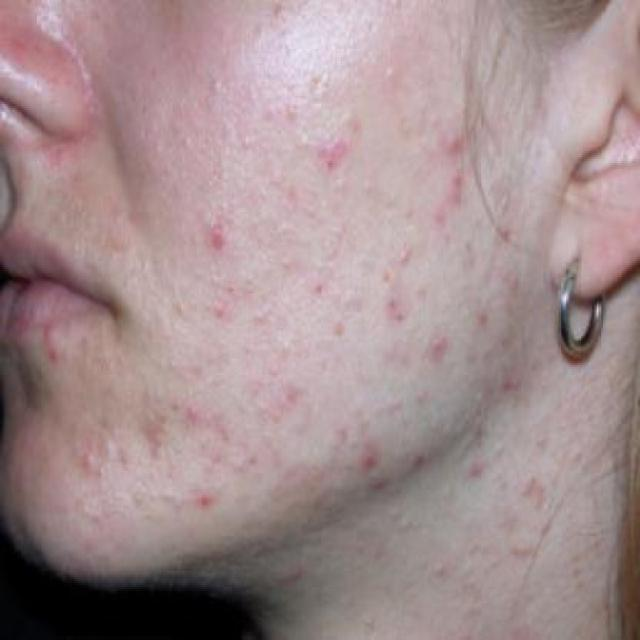whiteheads: (374, 41, 421, 94), (328, 155, 355, 204), (200, 69, 232, 106), (280, 131, 317, 163), (75, 438, 100, 481), (391, 247, 423, 277), (88, 432, 121, 461), (232, 126, 270, 151), (272, 334, 302, 365), (394, 512, 423, 542)
